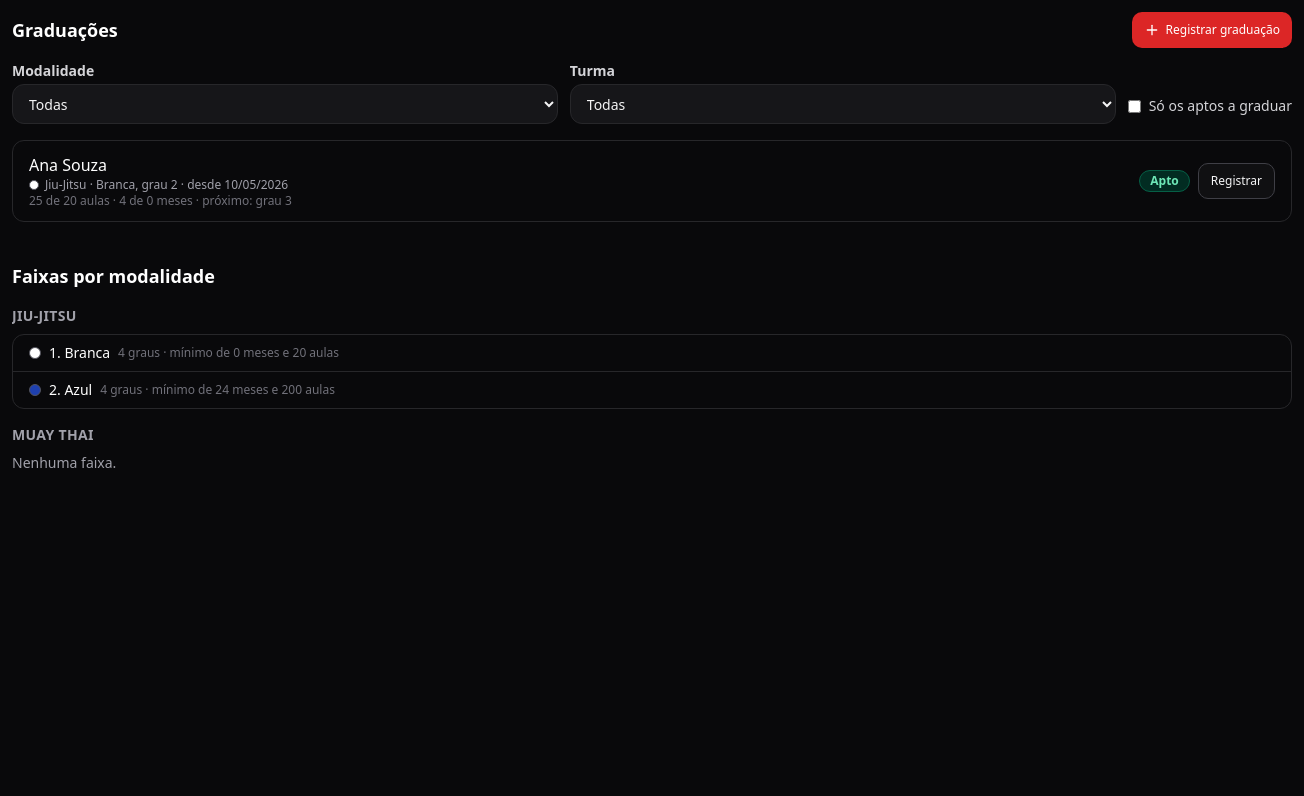
Test: Painel: graduações › registrar a partir da linha: aluno e modalidade fixos, data padrão hoje, e recarrega
The width and height of the screenshot is (1304, 796).
Click the button with aria-label "Registrar graduação de Ana Souza".
click(1236, 181)  # box [1198, 163, 1275, 199]
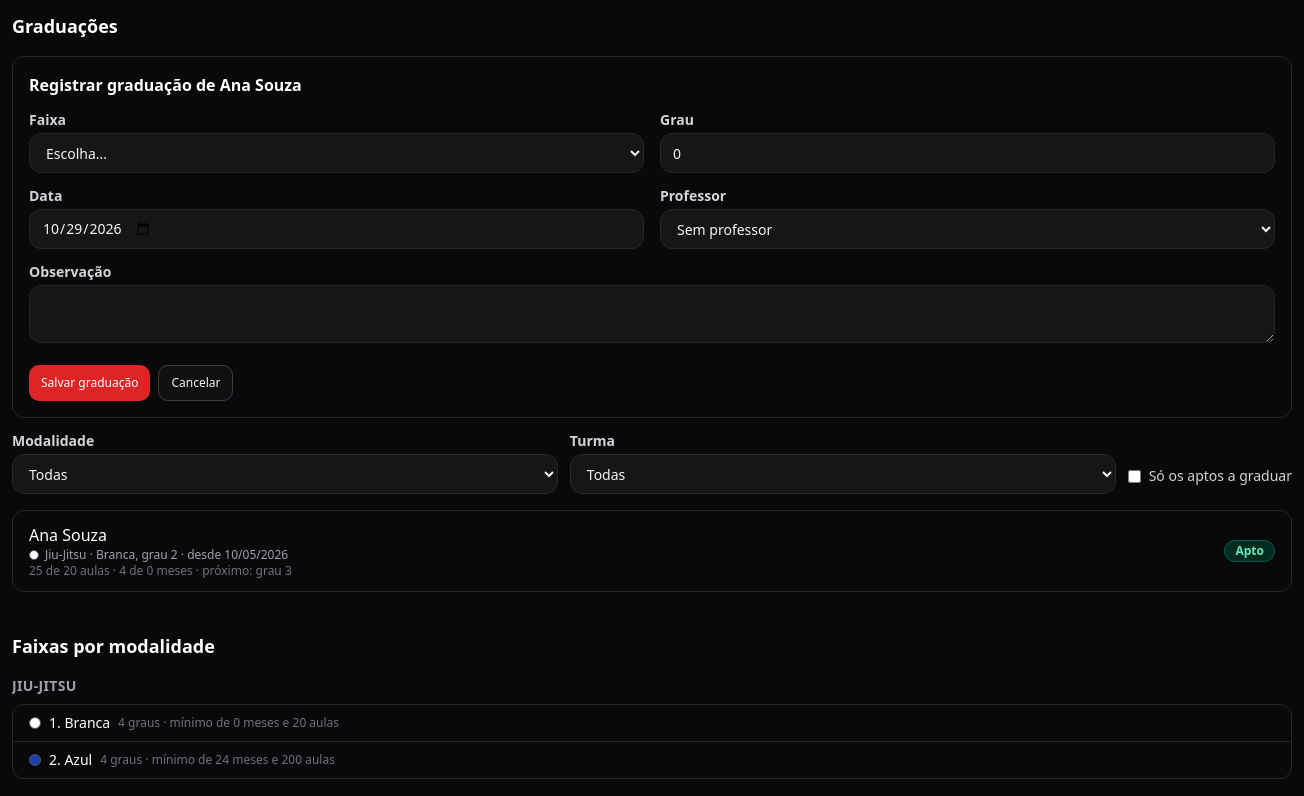
expect the field labelled "Aluno" is not shown: met
expect the form "Registrar graduação" shows "Registrar graduação de Ana Souza": met, box [29, 74, 302, 96]
Select "Branca" in the dropdown labelled "Faixa" at (336, 153), box [29, 133, 644, 173]
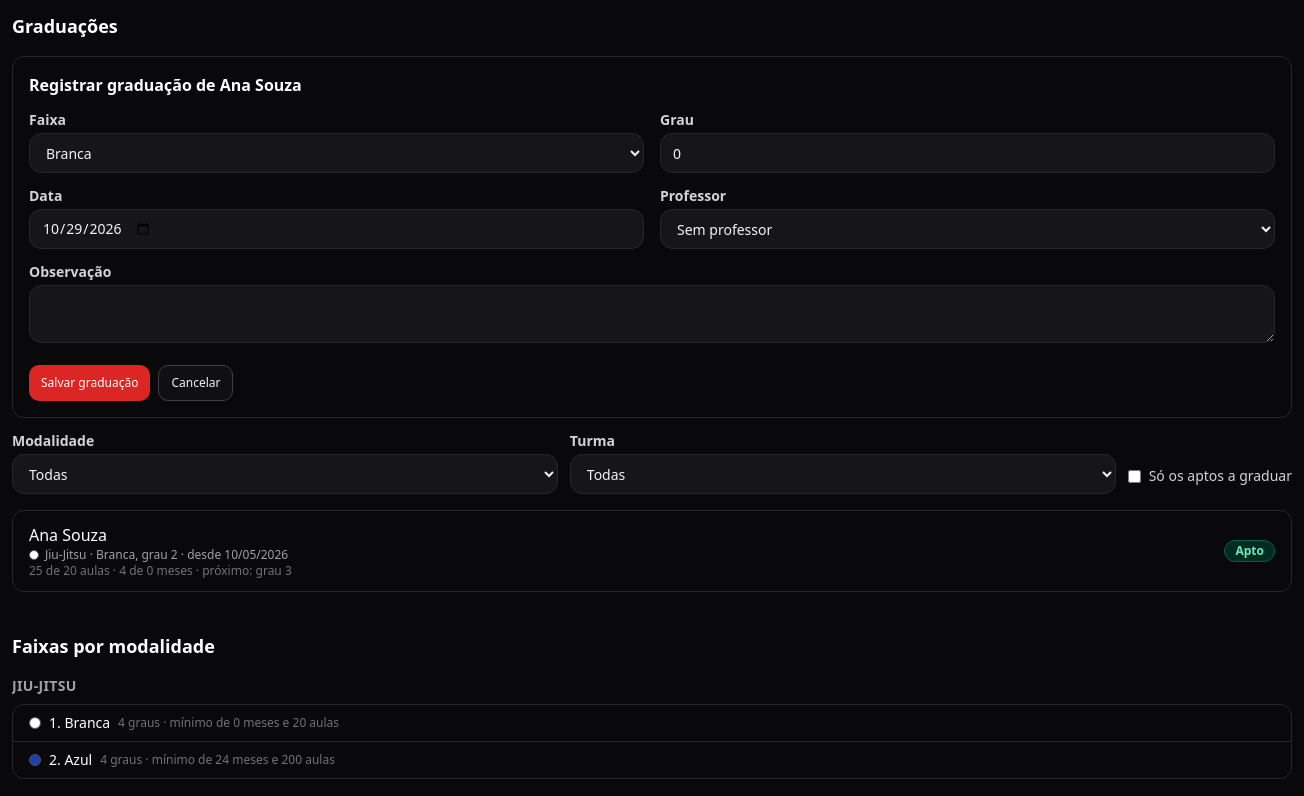
Replace the text in the number field labelled "Grau" with "3" at (968, 153), box [660, 133, 1275, 173]
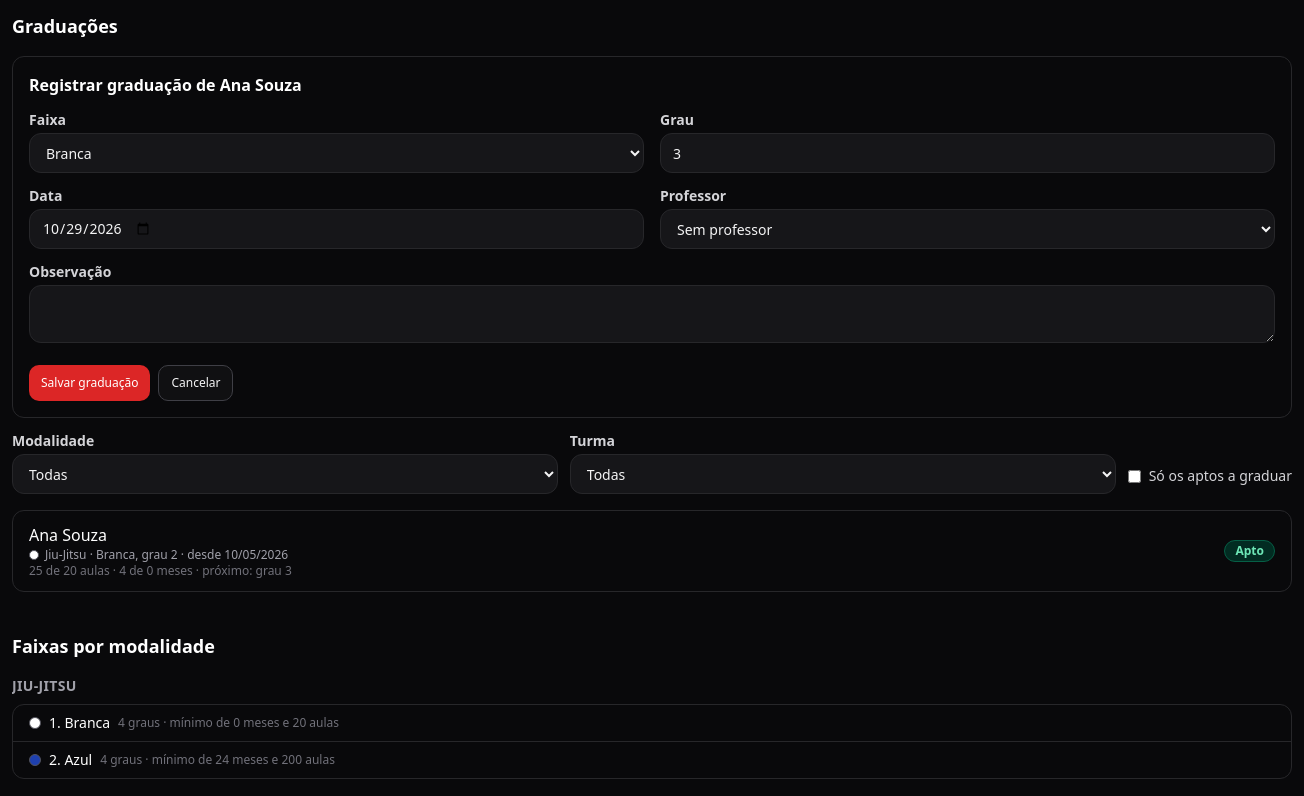
Select "Mestre Ricardo" in the dropdown labelled "Professor" at (968, 229), box [660, 209, 1275, 249]
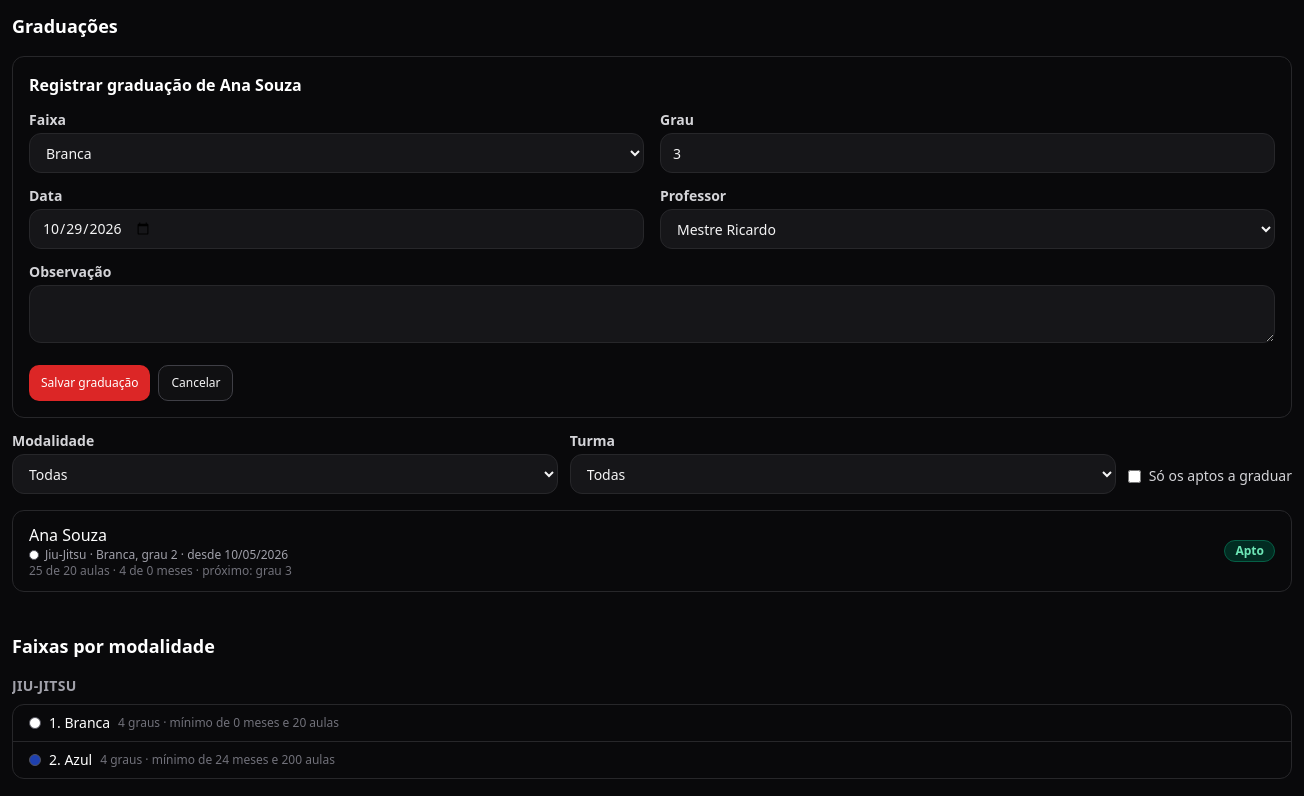
Click the button "Salvar graduação".
click(90, 383)  # box [29, 365, 150, 401]
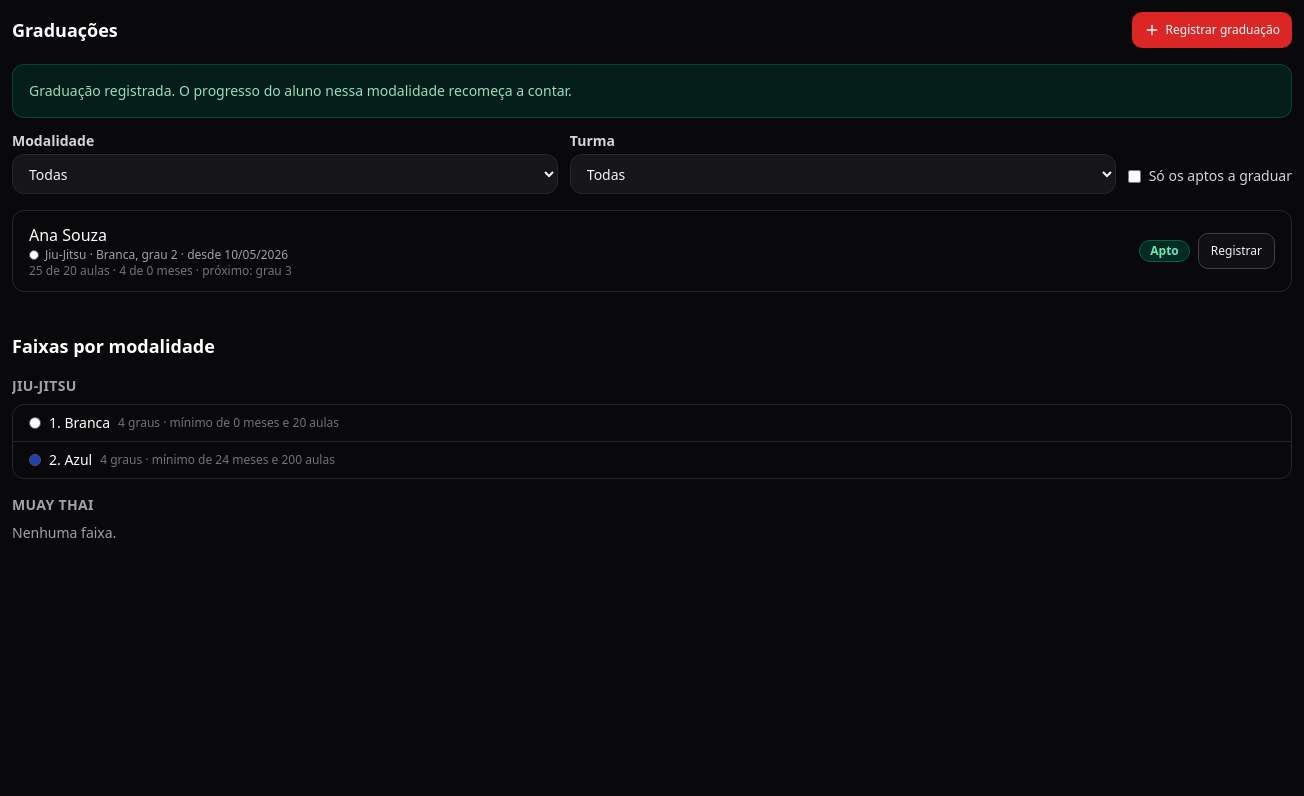
expect the text "Graduação registrada" is shown: met, box [29, 81, 572, 100]
